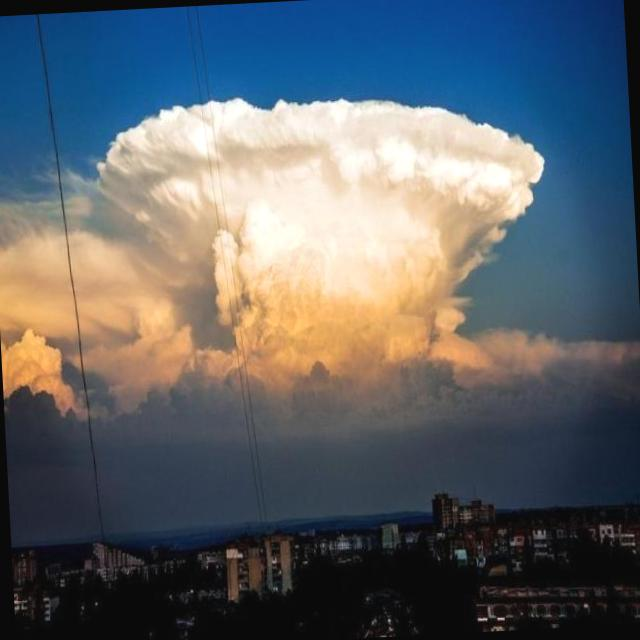cumulonimbus: (0, 45, 640, 526)
